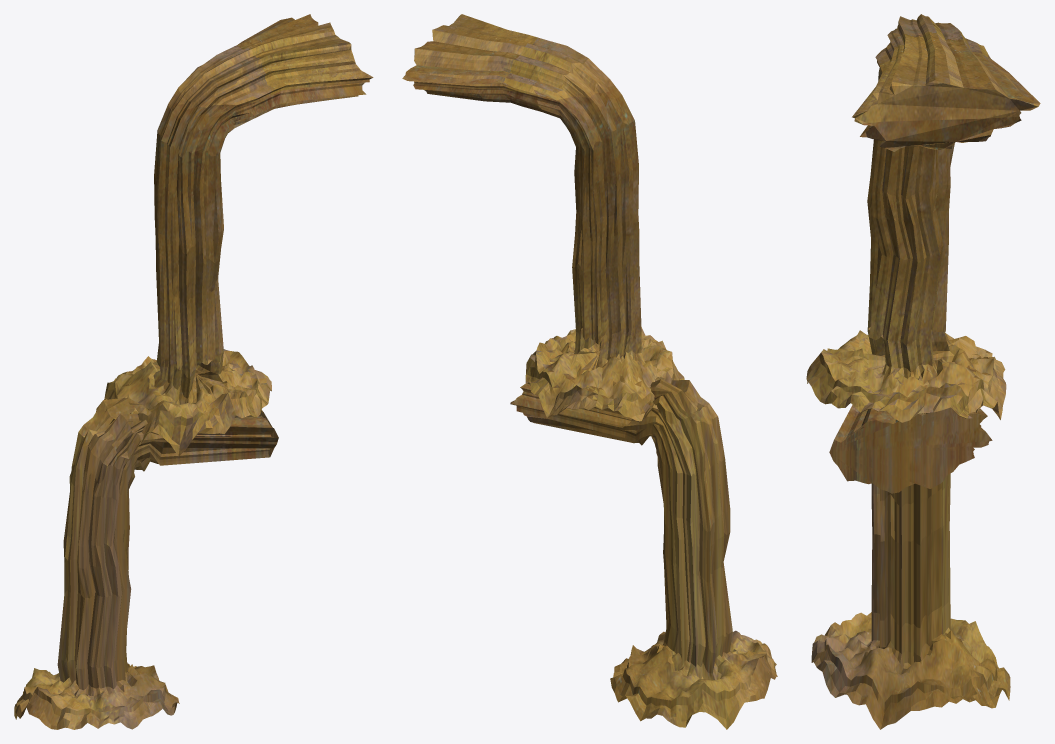
The model's file is is_vannfoss 1.FBX.
3 renders of one model, left to right at view 1: azimuth 30°, elevation 25°; view 2: azimuth 150°, elevation 25°; view 3: azimuth 270°, elevation 25°, orthographic. The views are drawn at different scales.
Parts seen in each view (by area): view 1: RingWave001, RingWave002; view 2: RingWave001, RingWave002; view 3: RingWave001, RingWave002.
Part boxes in pixels (bbox=[...]): RingWave001: bbox=[104, 14, 373, 456]; RingWave002: bbox=[14, 397, 278, 729]; RingWave001: bbox=[402, 14, 684, 421]; RingWave002: bbox=[510, 377, 777, 729]; RingWave001: bbox=[806, 14, 1040, 422]; RingWave002: bbox=[811, 405, 1010, 729].
Bounding box in the file's own units: 472 × 871 × 243.
1 material, 1 textured.
